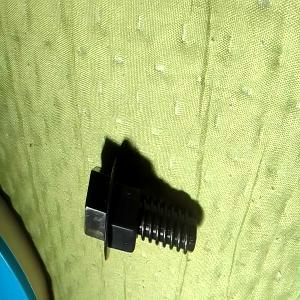parafuso: (84, 157, 198, 261)
